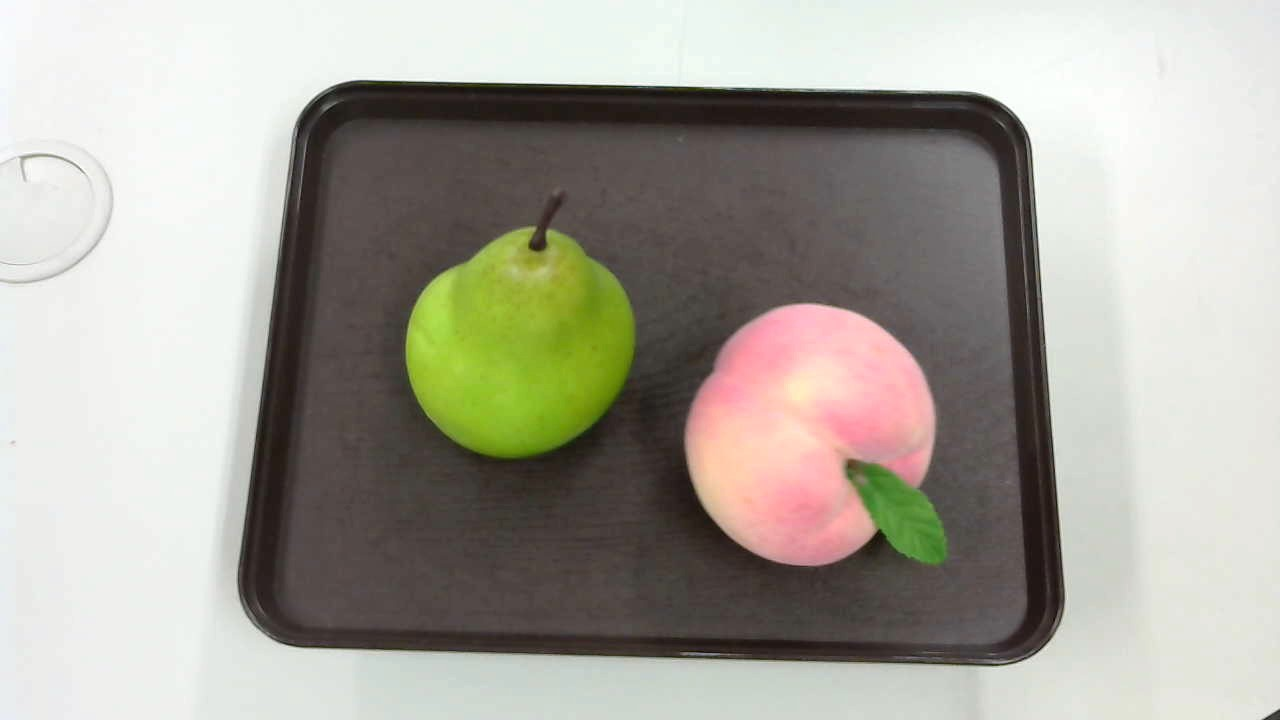green pear: (395, 183, 647, 460)
peach: (682, 302, 952, 570)
